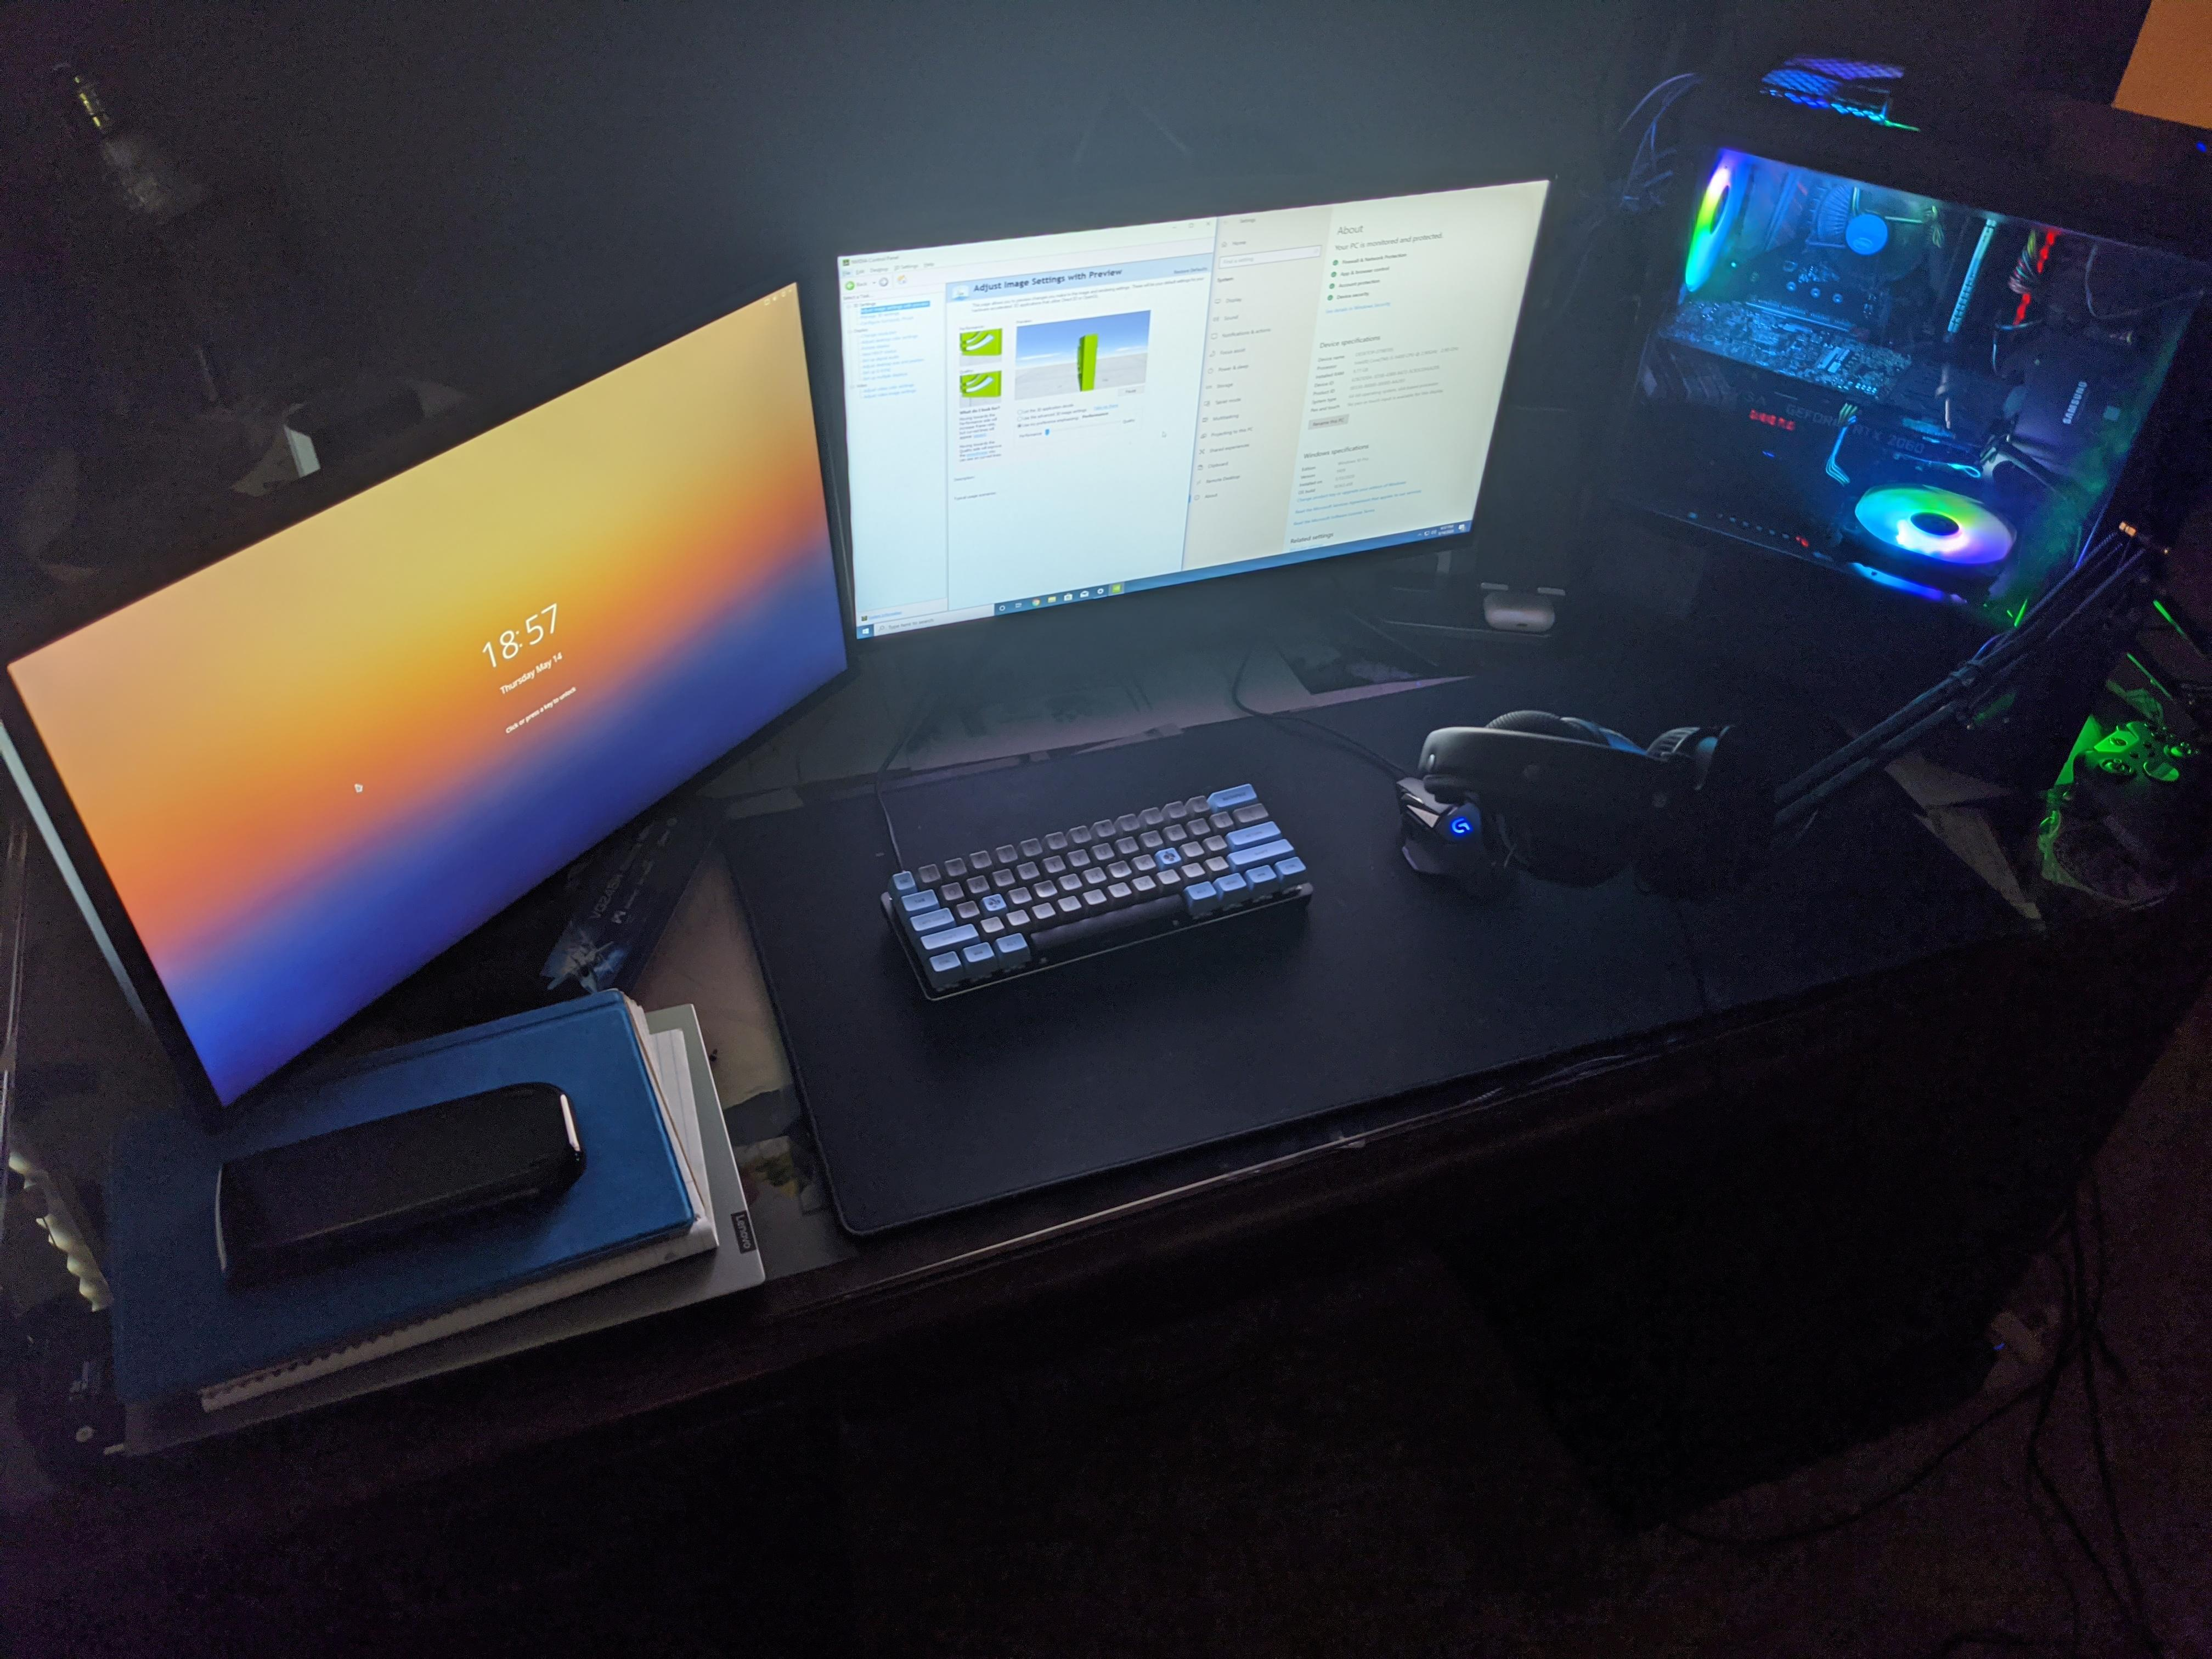Airpods (Apple): (1480, 589, 1557, 633)
Desk (Generic): (14, 563, 2212, 1659)
Desktop (Windows): (1559, 42, 2212, 640)
External Microphone (with Boom Arm): (1474, 523, 2212, 913)
Gaming Controller: (2062, 718, 2205, 875)
Headphones: (1411, 708, 1773, 910)
Keyboard (Generic): (878, 777, 1320, 1007)
Monitor (Landscape): (9, 256, 857, 1141), (831, 164, 1555, 662)
Mouse (Gaming): (1386, 779, 1517, 897)
Mousepad (Gaming): (716, 629, 2019, 1244)
